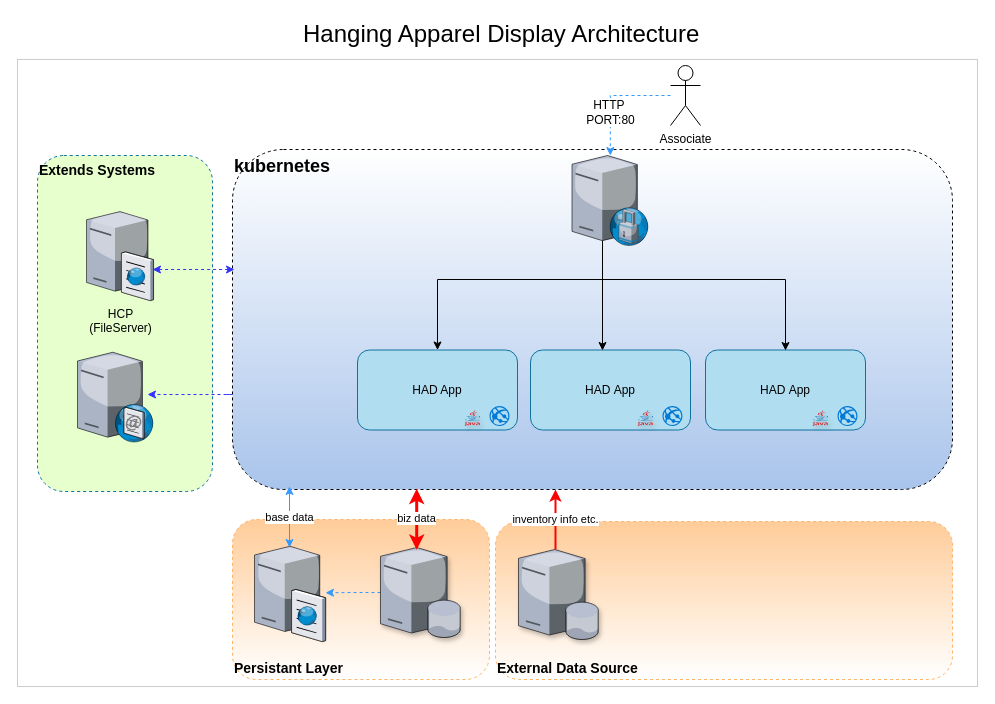
Image size: 995x704. Some labels were removed from this diagram. Here are the shapes that lost their labels. From the top down, the centre of each, then its label:
At point 610,200: "ingress-nginx".
At point 115,396: "SMTP PORT:25 (Mail Server)".
At point 289,592: "Redis".
At point 421,593: "HAD DB (SqlServer)".
At point 559,595: "Teradata".
